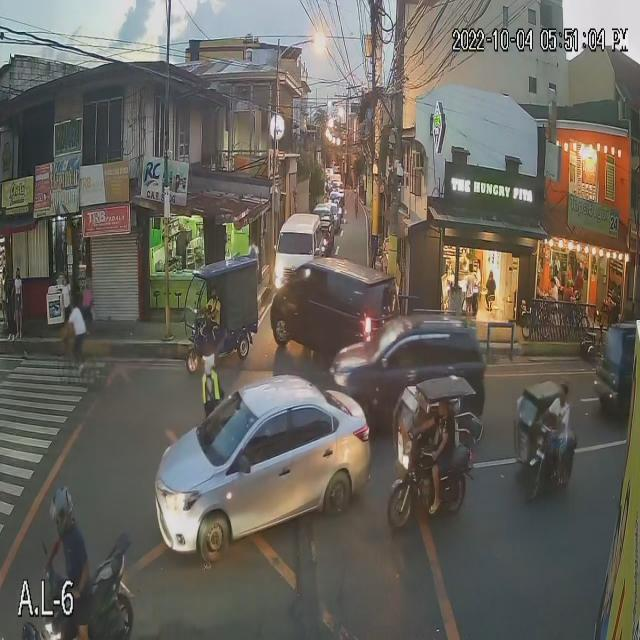helmet: (37, 512, 73, 550)
motorcycle: (24, 588, 114, 640)
rider: (44, 548, 78, 626)
